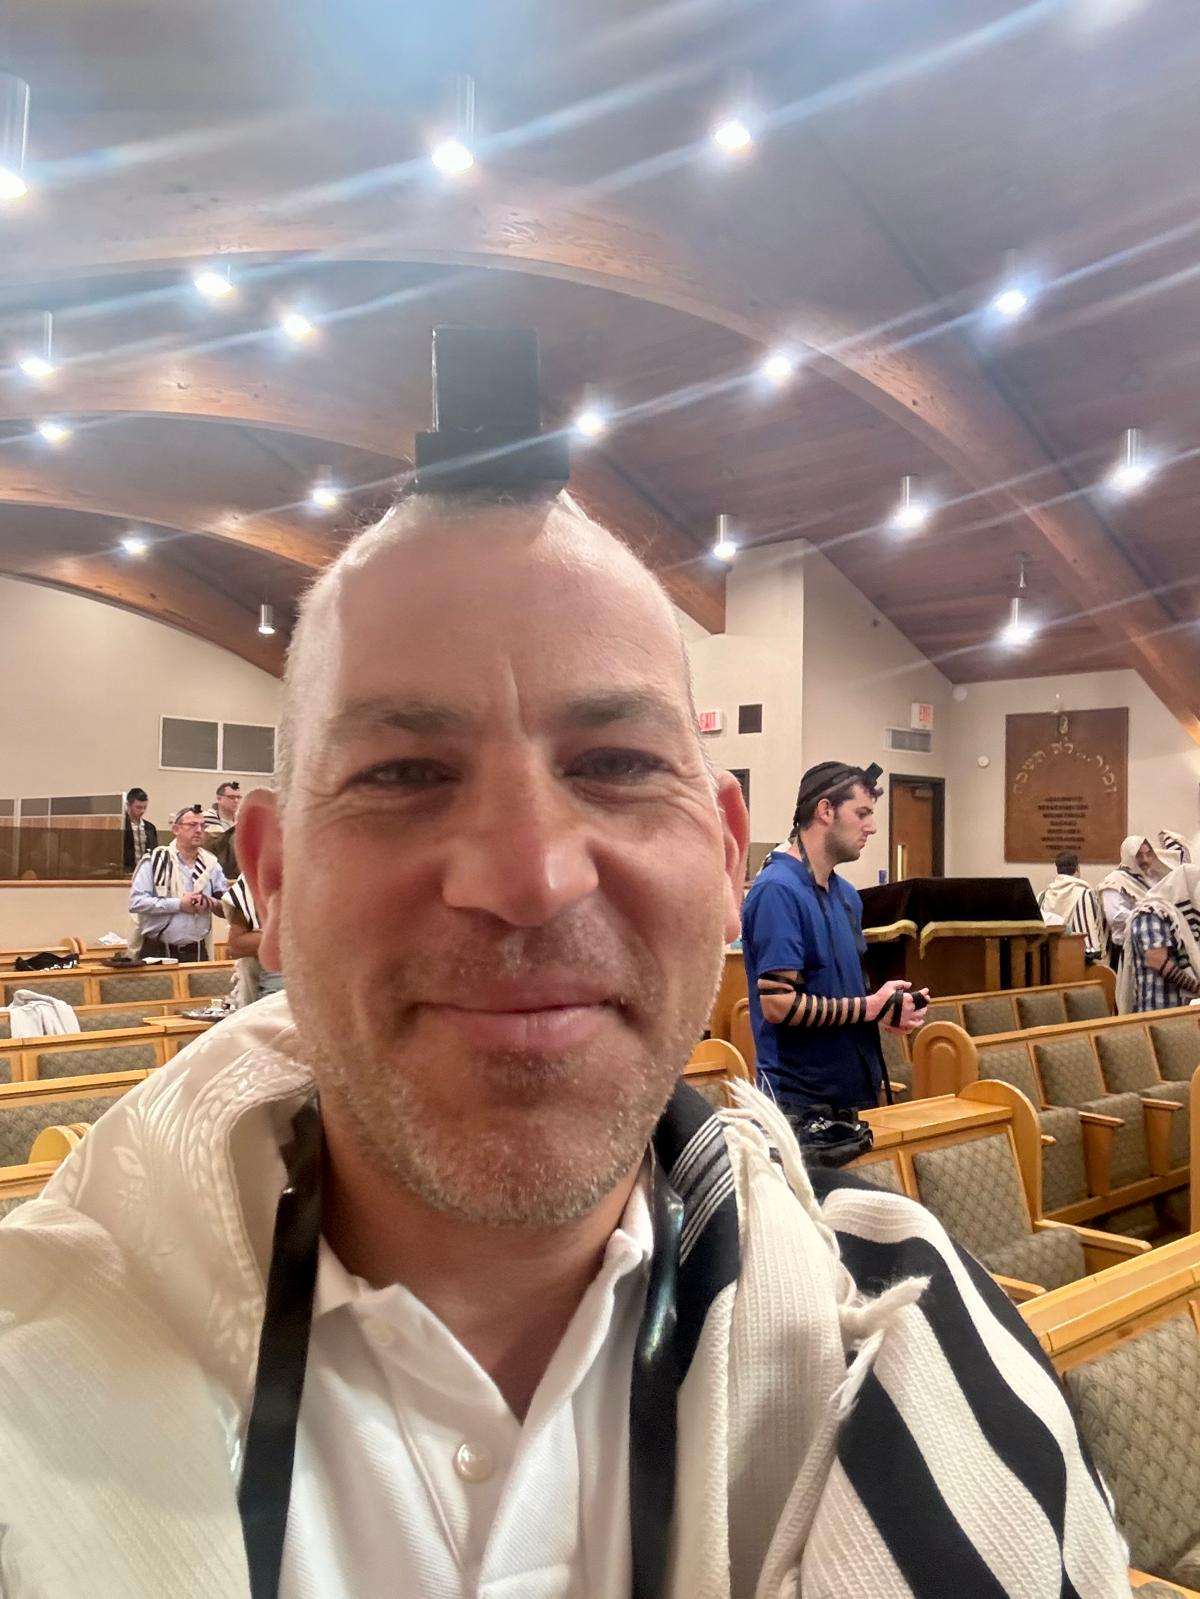tefillin: (416, 326, 571, 486), (856, 762, 884, 788)
